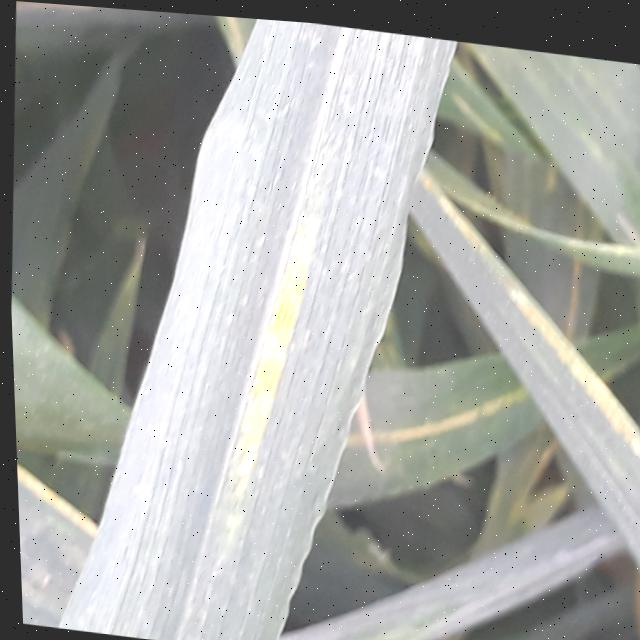yellow_rust: (1, 36, 640, 640)
